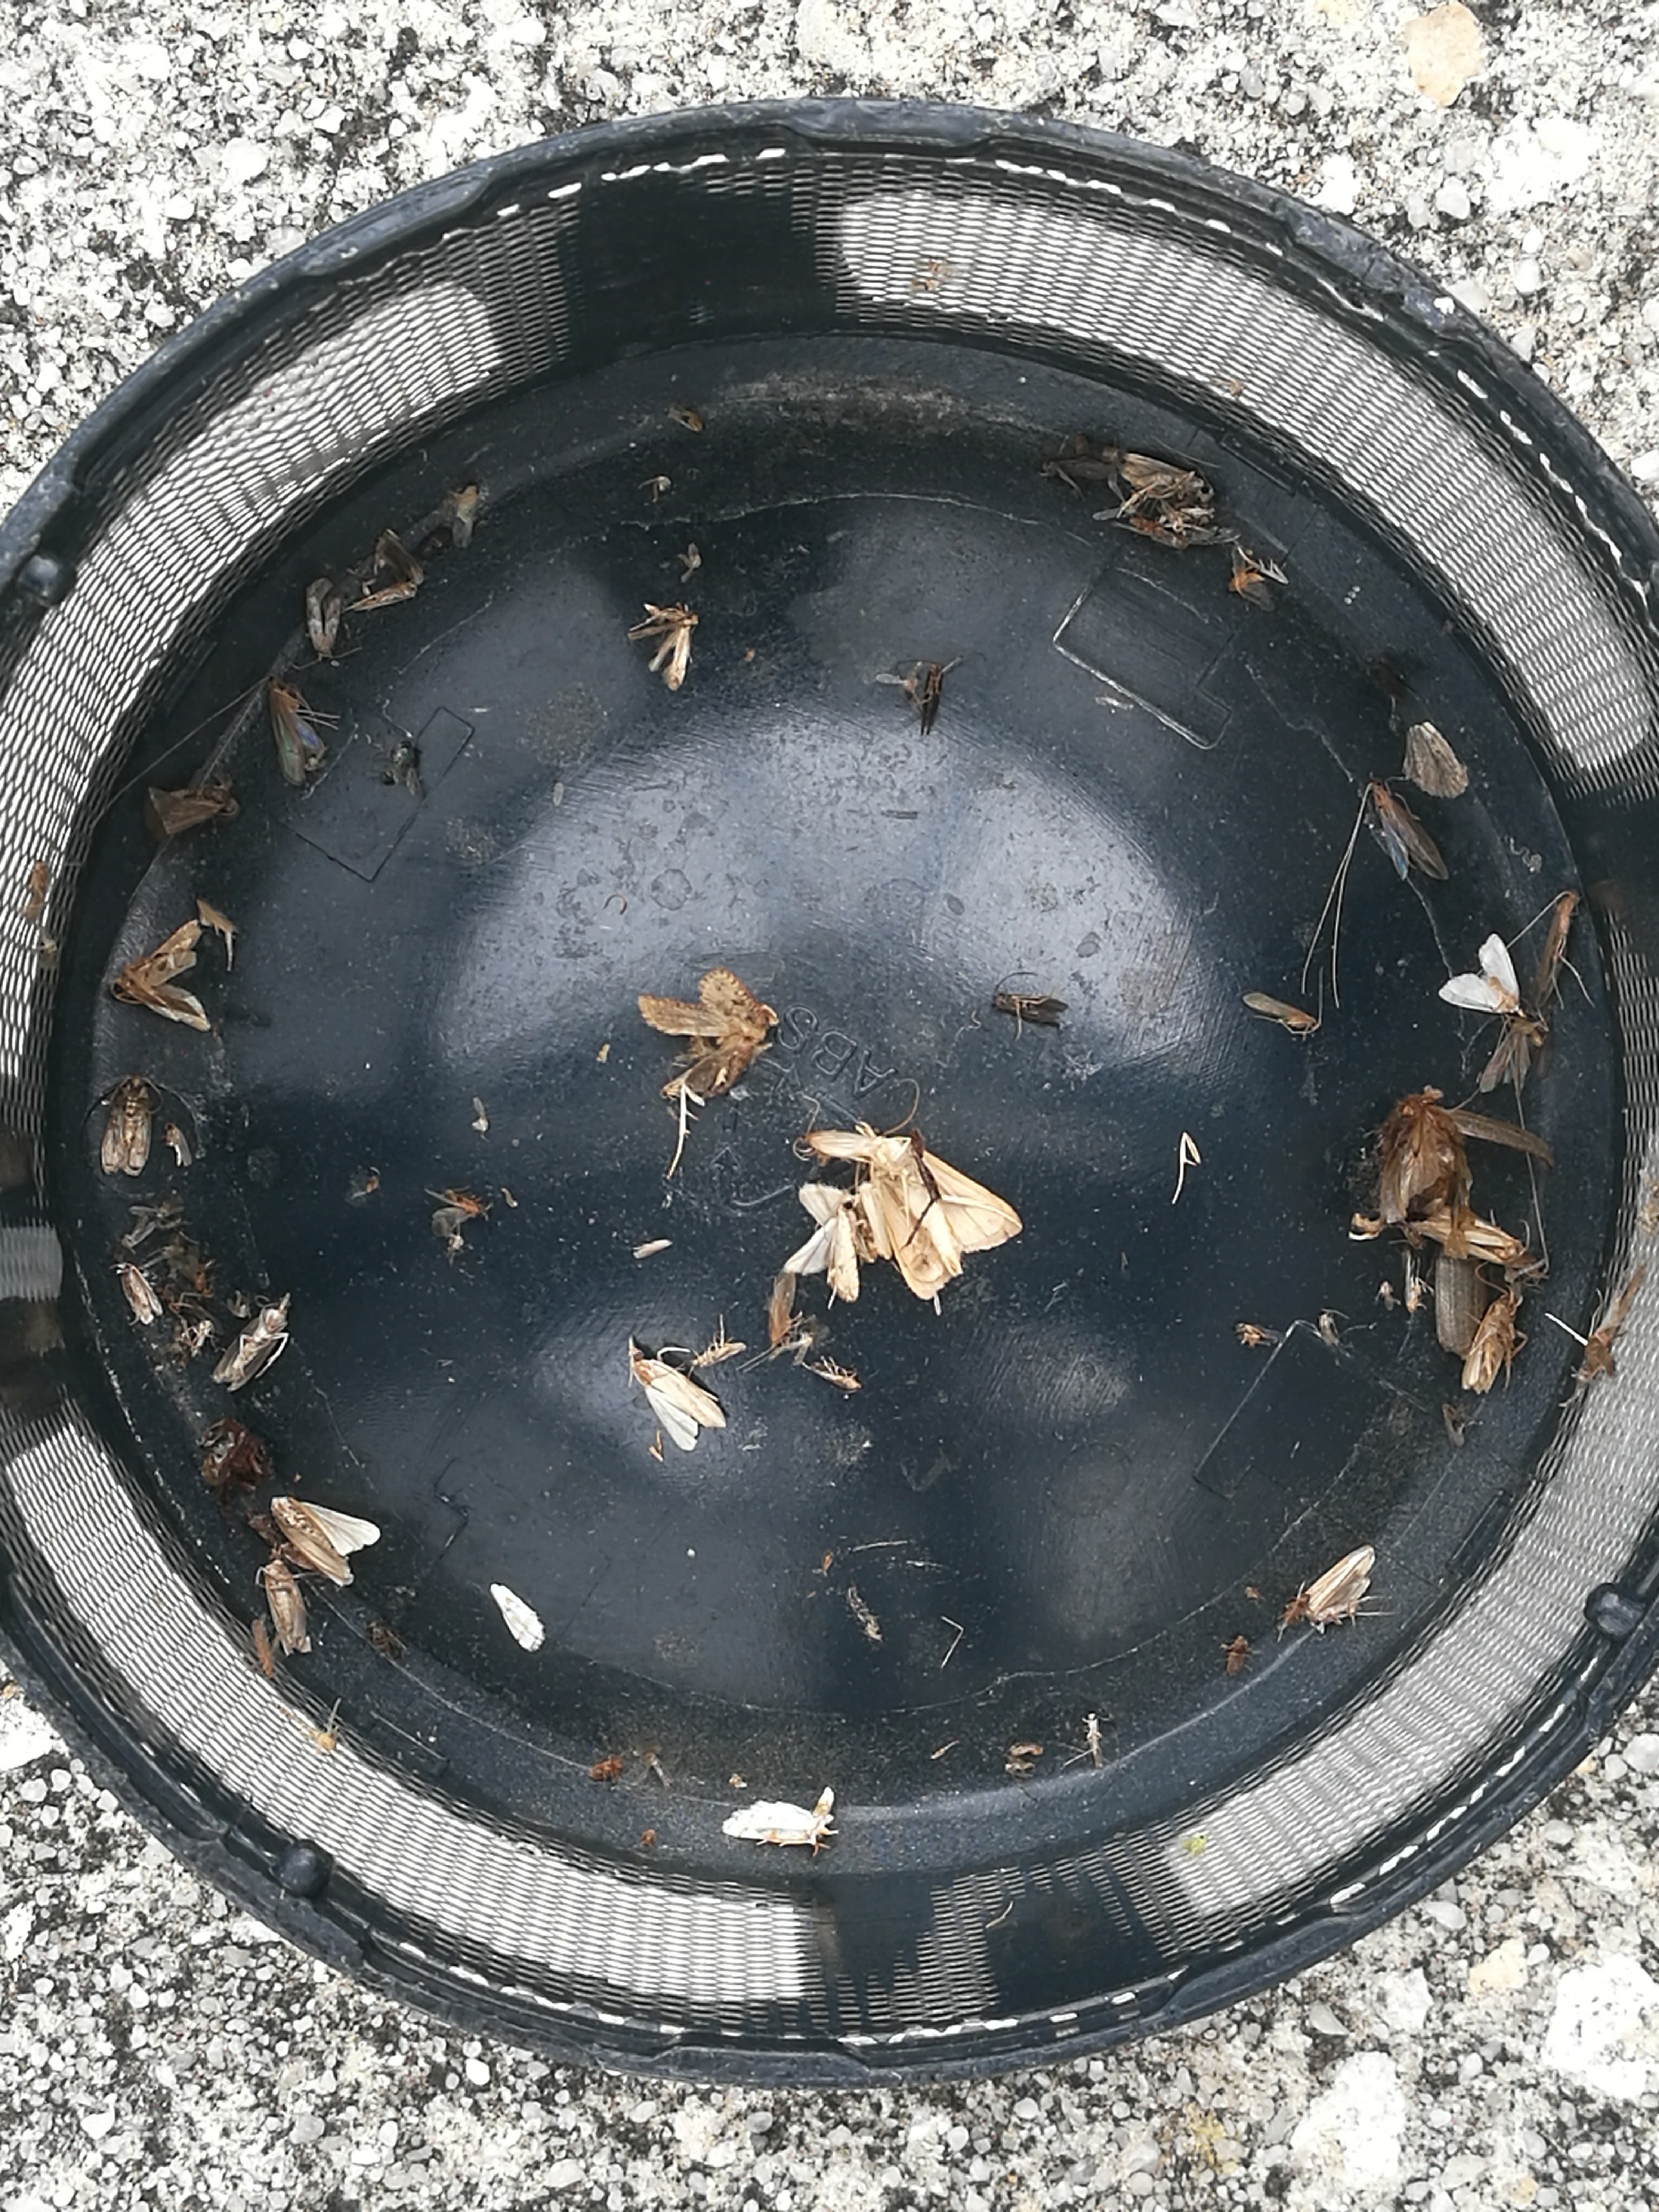mosquito: (1373, 779, 1450, 881), (1415, 1198, 1523, 1266), (265, 674, 322, 786), (214, 1306, 286, 1388), (1466, 1296, 1520, 1395), (263, 1564, 310, 1656), (1541, 895, 1579, 1007), (1121, 453, 1211, 500), (1243, 989, 1316, 1031), (767, 1258, 796, 1352), (117, 1263, 159, 1324), (310, 583, 340, 657)
moth: (871, 1137, 1021, 1301), (638, 968, 772, 1096), (115, 921, 213, 1029), (270, 1494, 378, 1587), (633, 1345, 725, 1451), (1286, 1545, 1375, 1629), (786, 1197, 859, 1298), (1439, 932, 1523, 1015), (720, 1784, 831, 1844), (103, 1078, 152, 1176)
